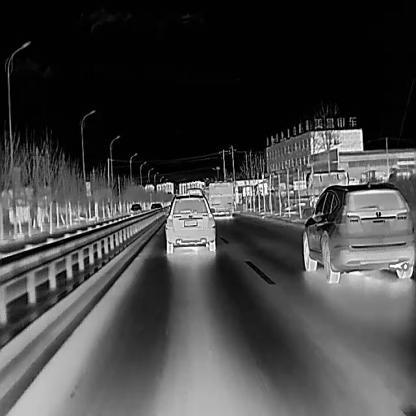car: (300, 184, 415, 283), (294, 168, 387, 208), (164, 193, 215, 253), (205, 179, 233, 219), (130, 202, 141, 217), (150, 201, 161, 213)
